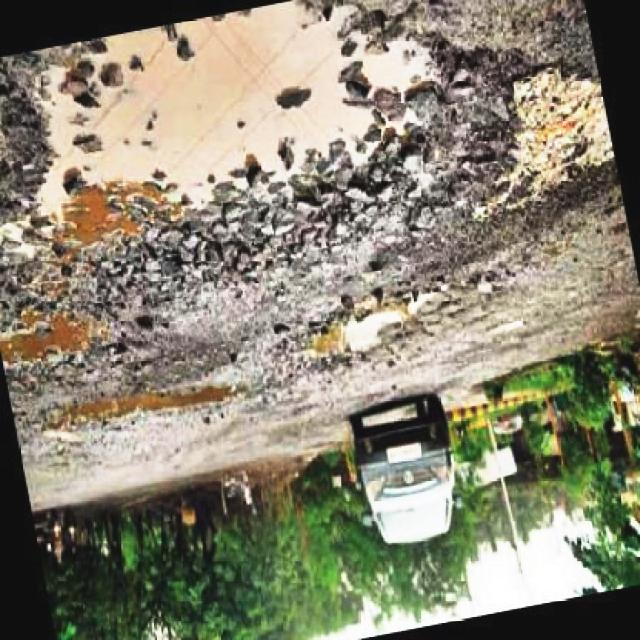pothole: (6, 0, 452, 249), (509, 66, 617, 185), (297, 289, 441, 365), (54, 378, 246, 428), (0, 304, 118, 369)
